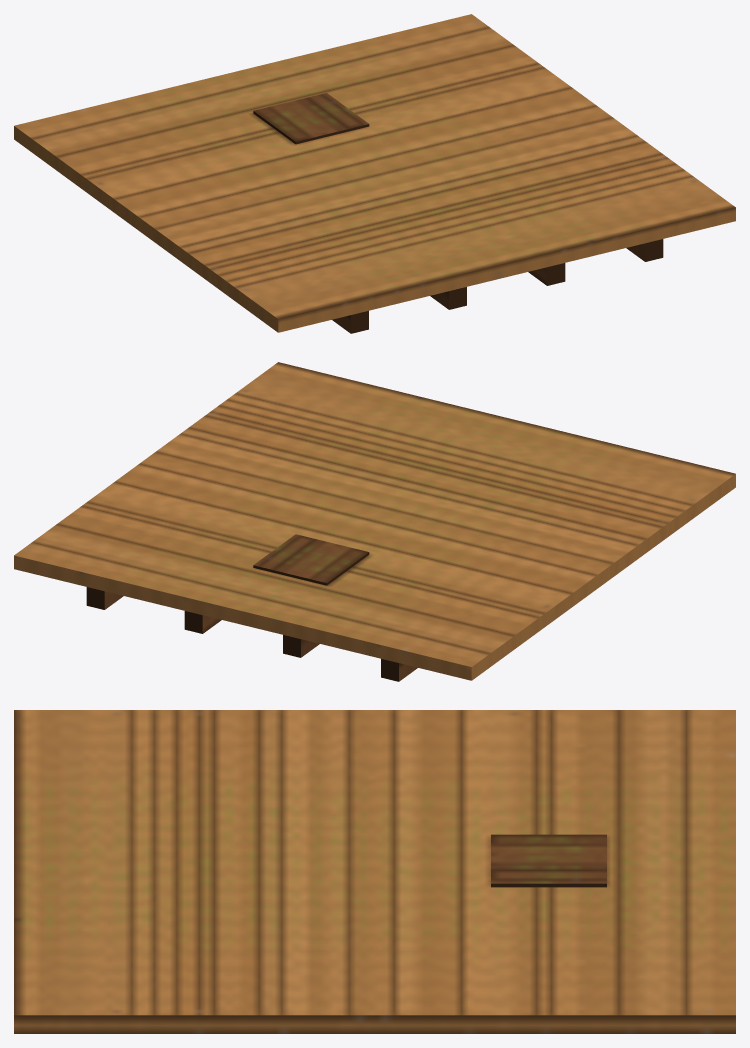
File: Kit_Keep_Floor.fbx
3 views of the same model, one above another, from view 1: azimuth 30°, elevation 25°; view 2: azimuth 150°, elevation 25°; view 3: azimuth 270°, elevation 25° (orthographic). The views are drawn at different scales.
Visible parts, largest first — view 1: Kit_Keep_Floor_LOD0; view 2: Kit_Keep_Floor_LOD0; view 3: Kit_Keep_Floor_LOD0.
Boxes of the visible parts, x1,y1,x2,y2 form: Kit_Keep_Floor_LOD0: (14, 14, 735, 333); Kit_Keep_Floor_LOD0: (14, 362, 735, 681); Kit_Keep_Floor_LOD0: (14, 710, 735, 1033).
Size of what is drawn, in the model's own units: 5.6 by 0.41 by 5.6.
Materials: 1 (1 with a texture image).
